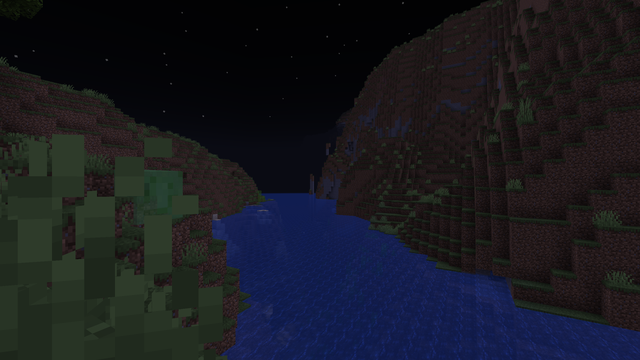slimes: (101, 166, 183, 224)
